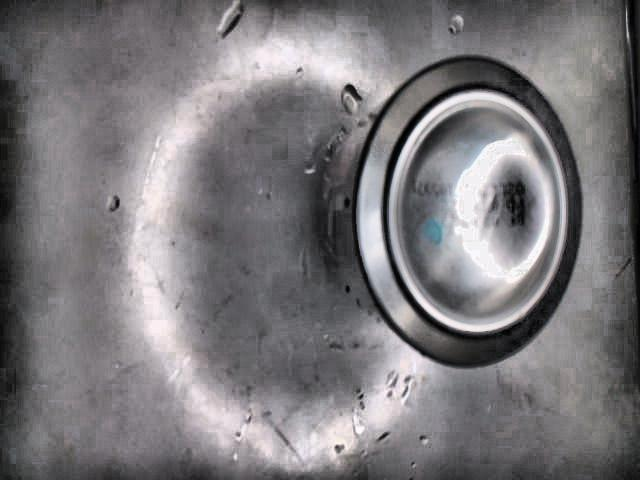Bottles: (326, 57, 584, 365)
